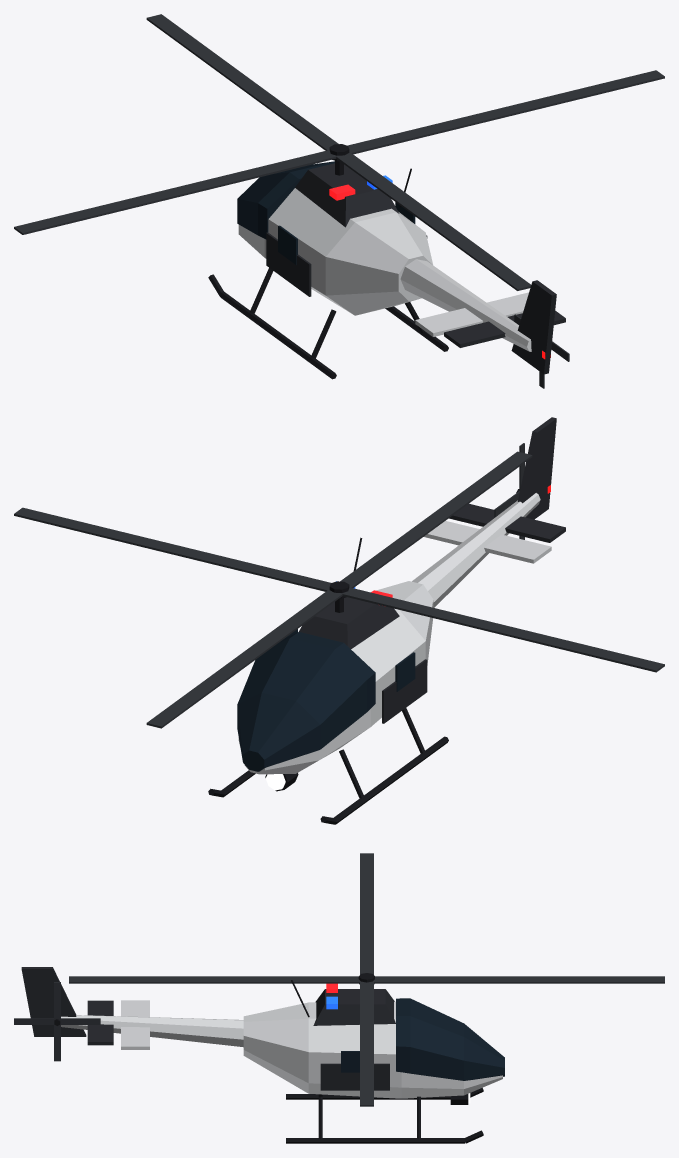
File: heli_police.glb
3 views of the same model, one above another, from view 1: azimuth 30°, elevation 25°; view 2: azimuth 150°, elevation 25°; view 3: azimuth 270°, elevation 25° (orthographic). The views are drawn at different scales.
Parts seen in each view (by area): view 1: heli_police__body, heli_police__rotor_main; view 2: heli_police__body, heli_police__rotor_main; view 3: heli_police__body, heli_police__rotor_main, heli_police__rotor_tail.
Part boxes in pixels (x1=…): heli_police__body: x1=208, y1=161, x2=565, y2=379; heli_police__rotor_main: x1=14, y1=14, x2=664, y2=290; heli_police__body: x1=208, y1=417, x2=565, y2=824; heli_police__rotor_main: x1=14, y1=451, x2=664, y2=728; heli_police__body: x1=21, y1=967, x2=504, y2=1143; heli_police__rotor_main: x1=69, y1=853, x2=664, y2=1106; heli_police__rotor_tail: x1=14, y1=982, x2=100, y2=1061.
Size of the model in its own units: 10.3 by 2.92 by 11.25.
